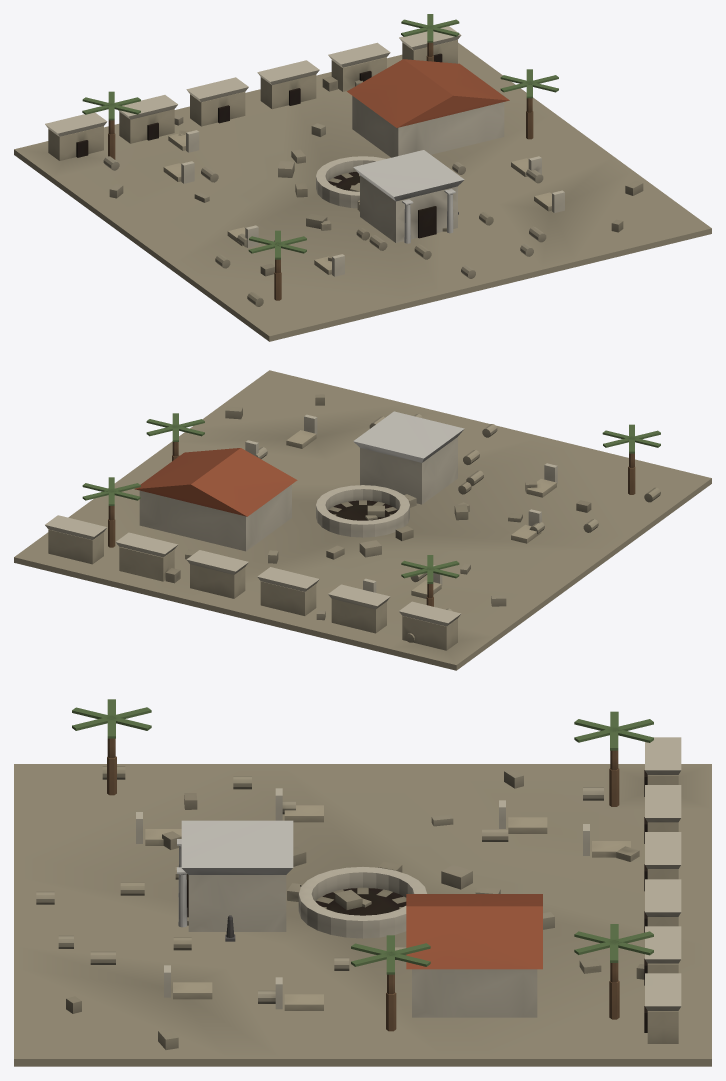
Rendered from kom-el-shoqafa.glb.
The picture shows the model from 3 angles, top to bottom: view 1: azimuth 30°, elevation 25°; view 2: azimuth 150°, elevation 25°; view 3: azimuth 270°, elevation 25°; orthographic projection. The views are drawn at different scales.
Parts seen in each view (by area): view 1: p0_ground, p2_graves, p1_kiosk; view 2: p0_ground, p2_graves, p1_kiosk; view 3: p0_ground, p2_graves, p1_kiosk.
Boxes of the visible parts, x1=… form: p0_ground: x1=14, y1=42, x2=711, y2=341; p2_graves: x1=45, y1=14, x2=643, y2=306; p1_kiosk: x1=347, y1=59, x2=509, y2=243; p0_ground: x1=14, y1=370, x2=711, y2=670; p2_graves: x1=45, y1=394, x2=660, y2=650; p1_kiosk: x1=134, y1=411, x2=464, y2=551; p0_ground: x1=14, y1=764, x2=711, y2=1066; p2_graves: x1=36, y1=699, x2=681, y2=1049; p1_kiosk: x1=177, y1=820, x2=542, y2=1017.
Bounding box in the file's own units: 50 × 6.6 × 50.
